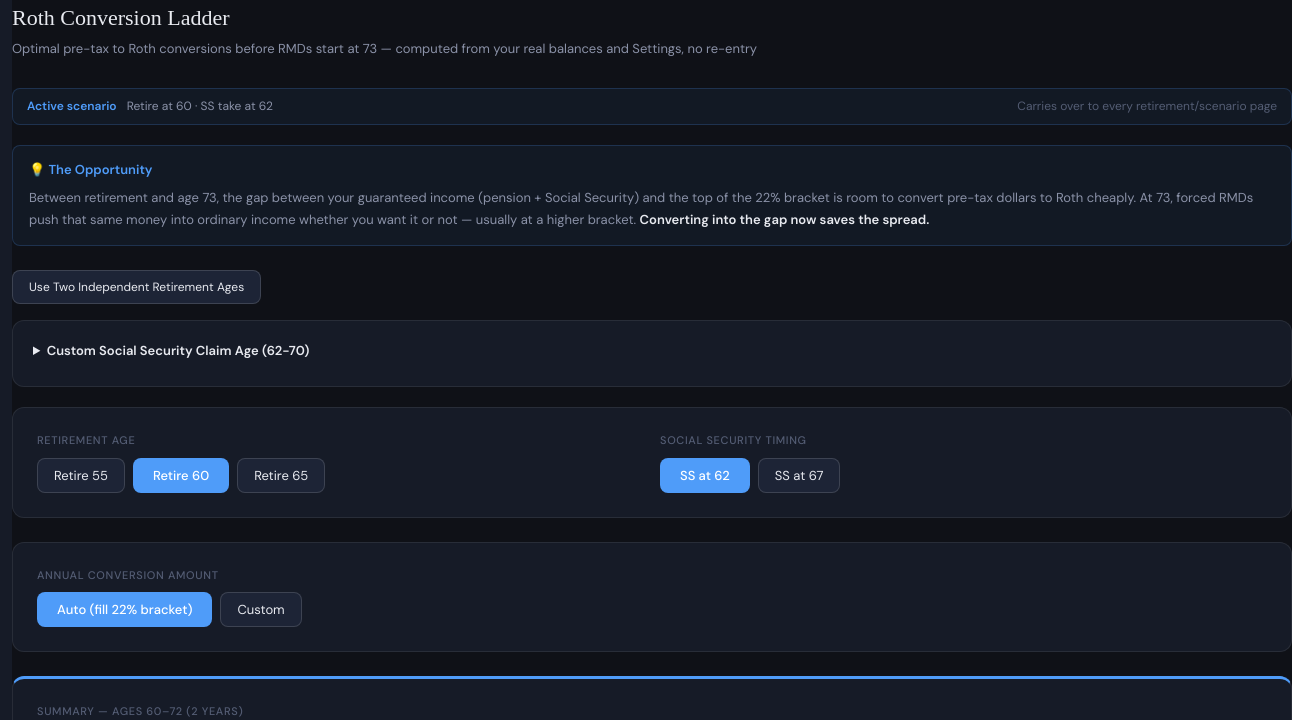
Two-Age Roth Conversion › toggling two-age mode replaces the retirement-age buttons with two age inputs, keeping SS visible
The width and height of the screenshot is (1292, 720).
Click the button "Use Two Independent Retirement Ages": point(137, 287) [12,270,261,304]
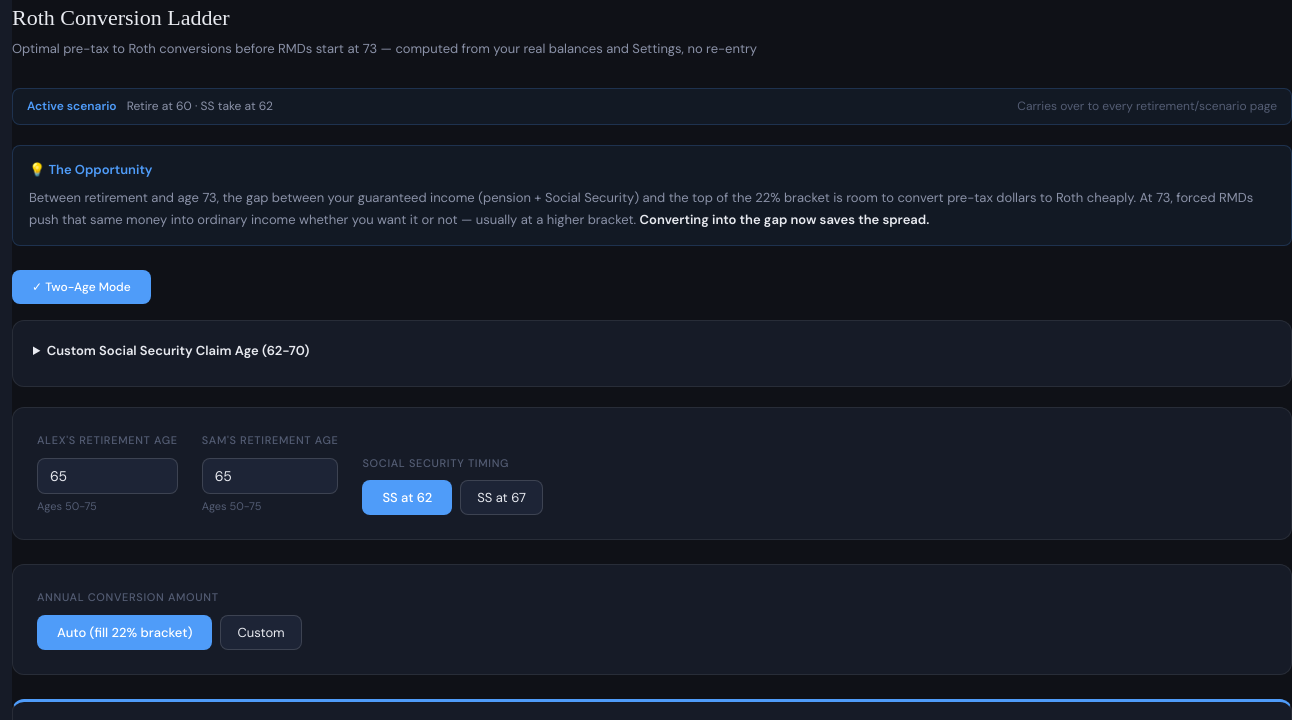
Expected: the text "Alex's Retirement Age" is shown, [37,432,178,450]
Expected: the text "Sam's Retirement Age" is shown, [202,432,338,450]
